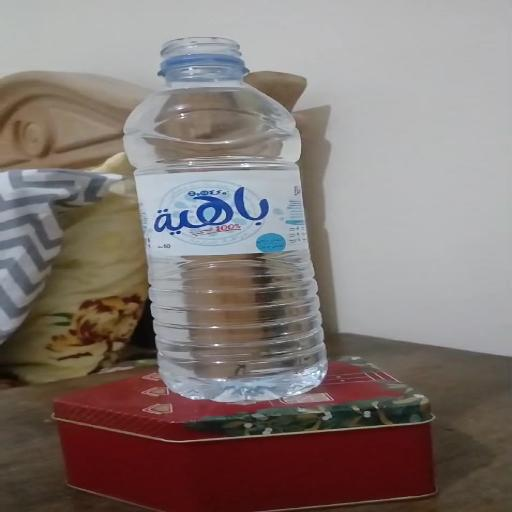bouteille non conformite: (148, 38, 310, 402)
